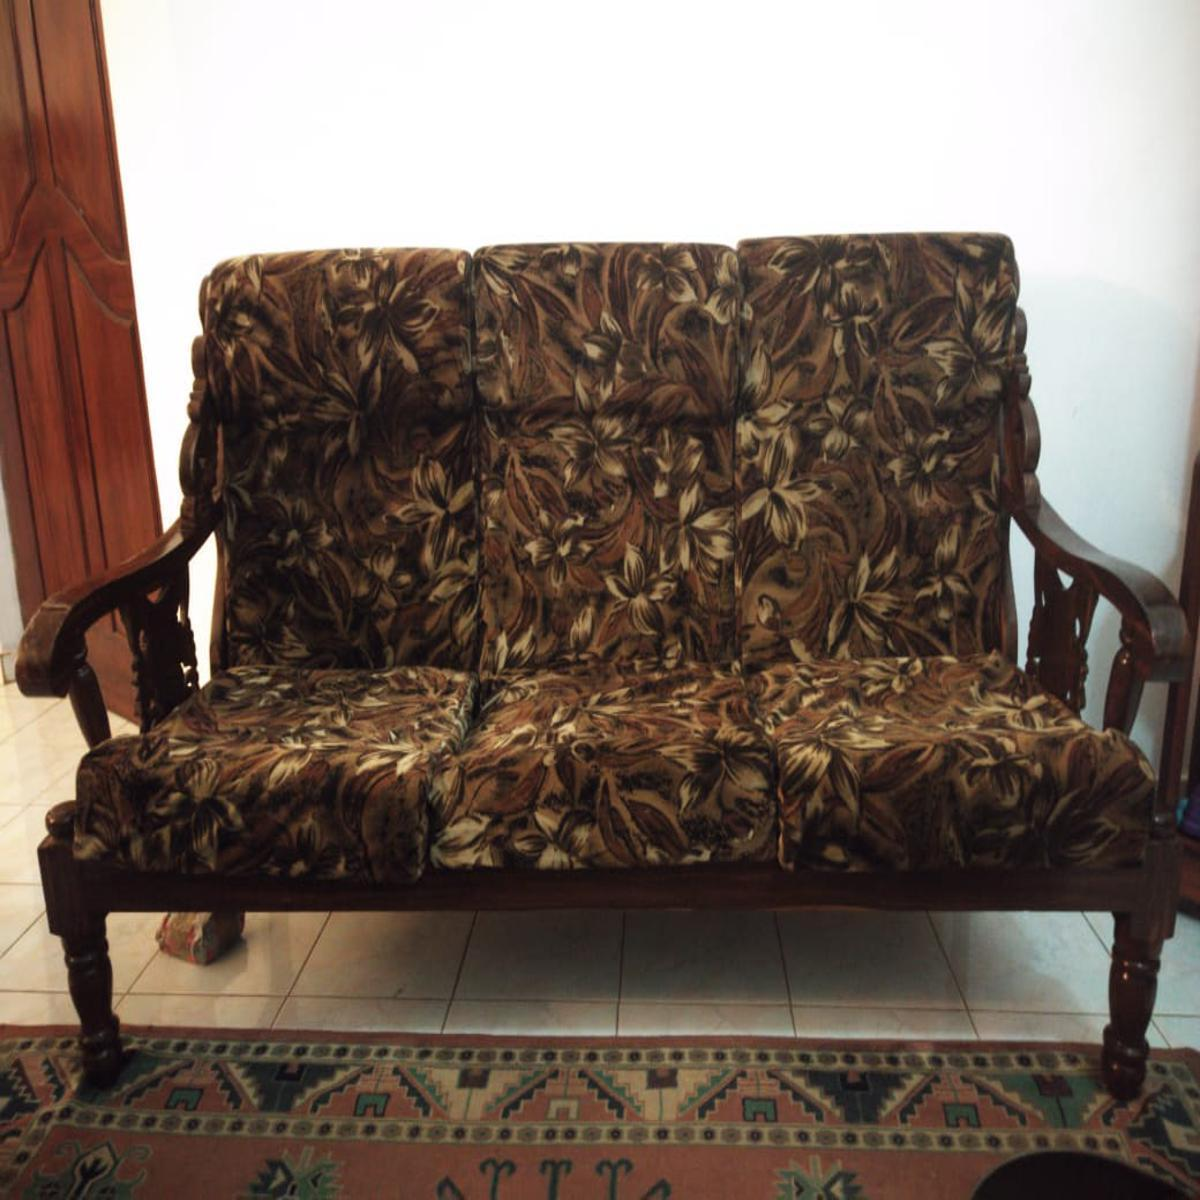Sofa: (22, 245, 1172, 1080)
